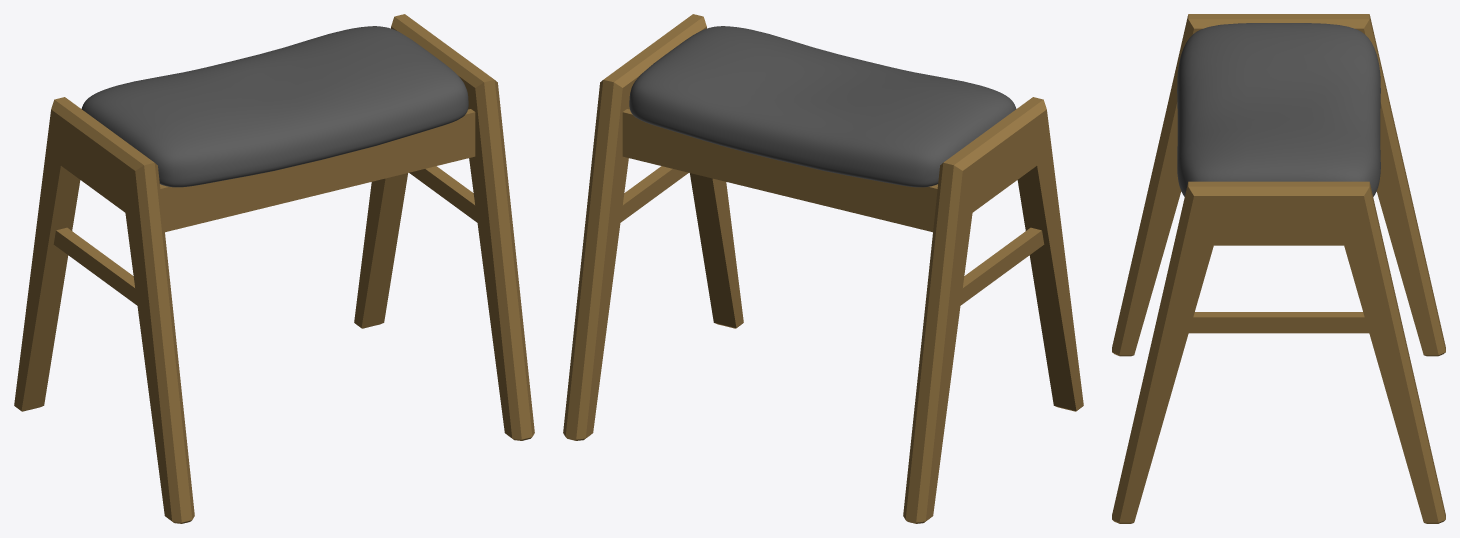
The model's file is 650_オットマン.glb.
3 views of the same model, side by side, from view 1: azimuth 30°, elevation 25°; view 2: azimuth 150°, elevation 25°; view 3: azimuth 270°, elevation 25° (orthographic).
Parts seen in each view (by area): view 1: Body1, Body2; view 2: Body1, Body2; view 3: Body1, Body2.
Part boxes in pixels (left/top/right/bottom): Body1: left=14, top=14, right=534, bottom=523; Body2: left=81, top=26, right=468, bottom=187; Body1: left=563, top=14, right=1083, bottom=523; Body2: left=629, top=26, right=1016, bottom=187; Body1: left=1112, top=14, right=1445, bottom=523; Body2: left=1177, top=23, right=1380, bottom=196.
Size of the model in its own units: 0.48 by 0.4332 by 0.3788.
